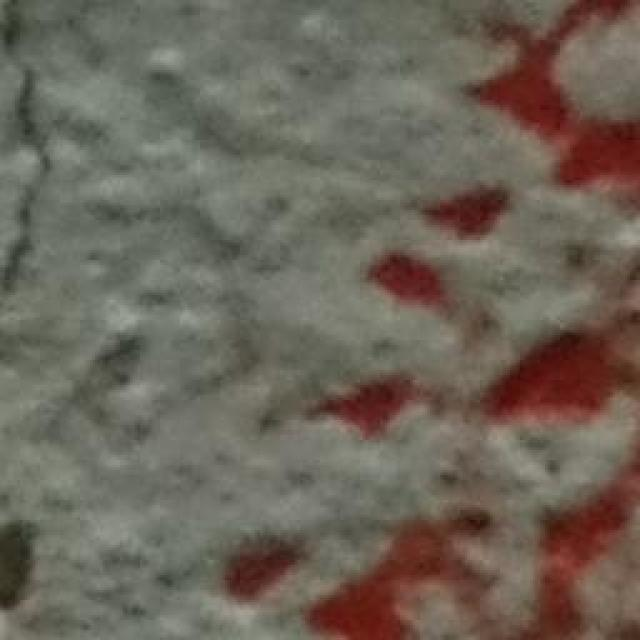Longitudinal: (0, 0, 70, 308)
